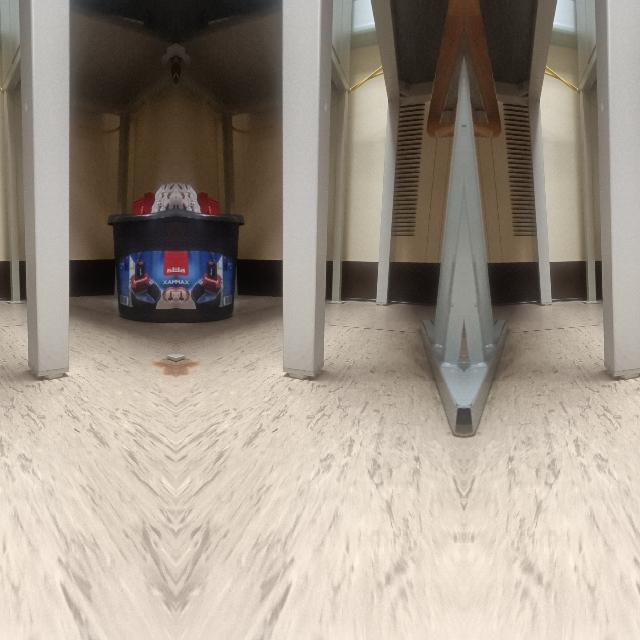obstacle: (278, 166, 328, 382), (22, 166, 72, 382), (174, 176, 242, 324), (108, 176, 176, 324), (599, 166, 640, 381), (426, 270, 464, 438), (464, 270, 501, 438)
